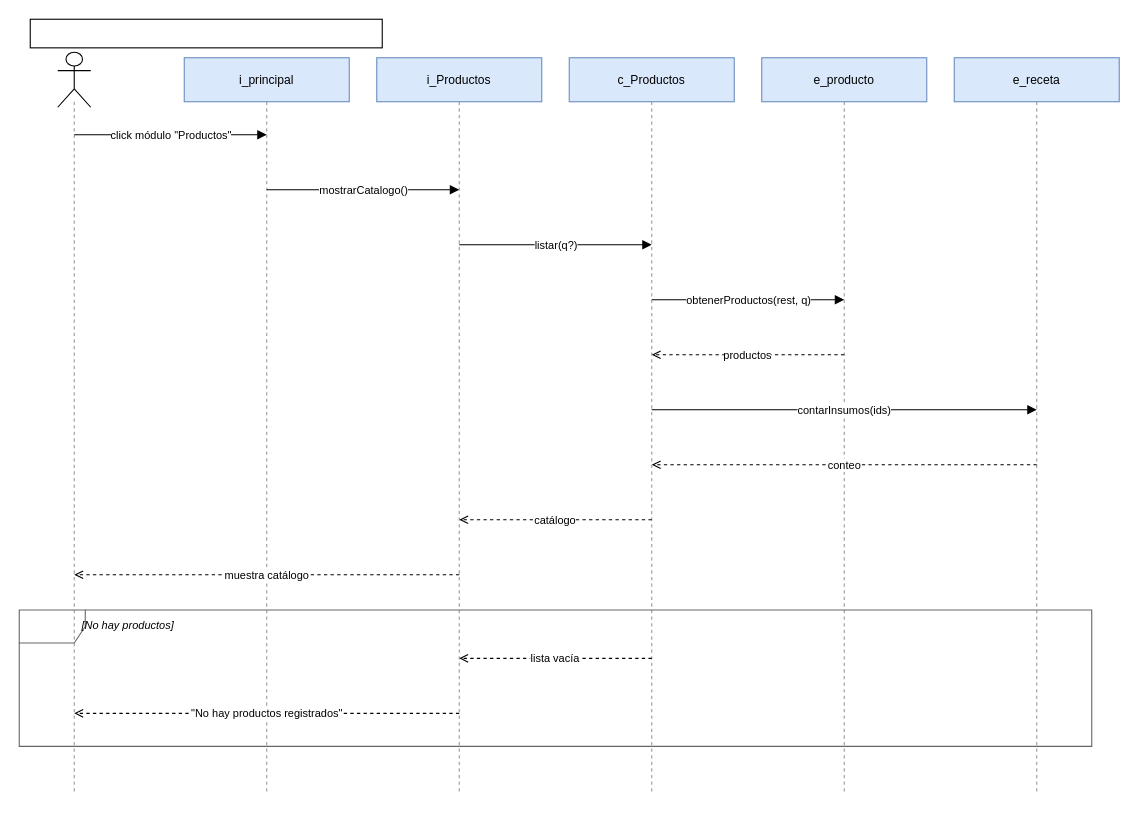
The diagram is 1139 pixels wide and 815 high, and some of its shapes have lost their labels. Each missing label, with the box of its shape:
Administrador: (57, 51, 91, 107)
alt: (18, 609, 1092, 746)
Secuencia - Listar Productos (CU-22): (29, 18, 382, 48)
